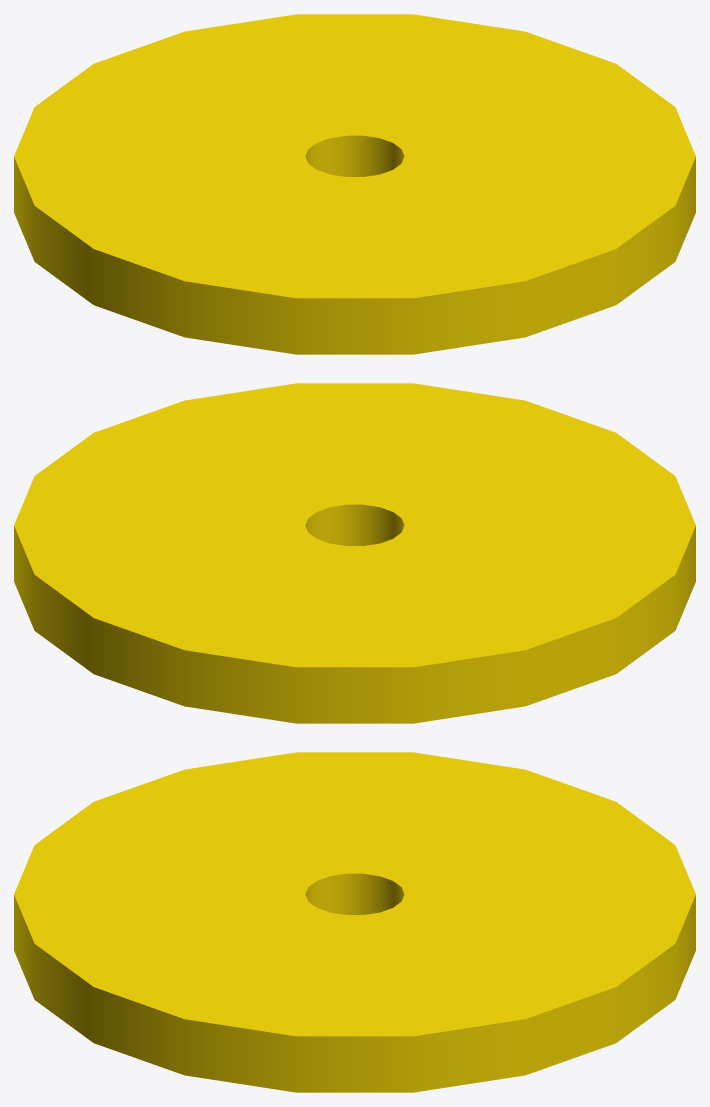
The model's file is Disco3.fbx.
3 views of the same model, one above another, from view 1: azimuth 30°, elevation 25°; view 2: azimuth 150°, elevation 25°; view 3: azimuth 270°, elevation 25° (orthographic).
Visible parts, largest first — view 1: Disc003; view 2: Disc003; view 3: Disc003.
Part boxes in pixels (x1=…): Disc003: x1=14, y1=14, x2=695, y2=354; Disc003: x1=14, y1=383, x2=695, y2=723; Disc003: x1=14, y1=752, x2=695, y2=1092.
Bounding box in the file's own units: 108 × 10 × 110.
